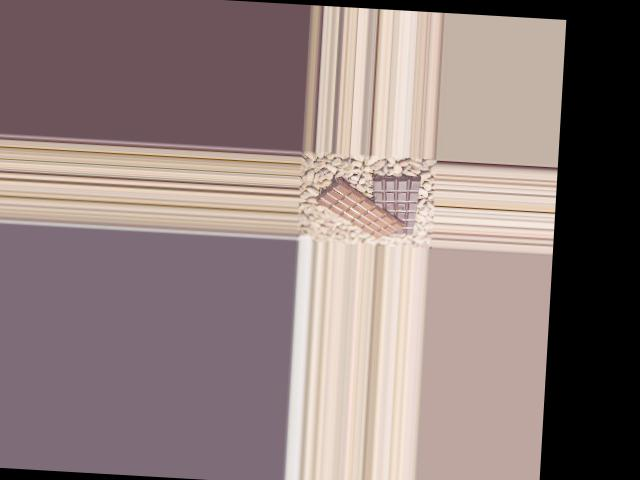chocolate: (369, 171, 427, 239)
